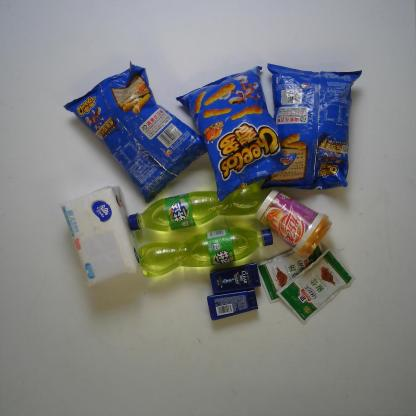Drink: (124, 177, 268, 233), (138, 225, 274, 283)
Instant Drink: (254, 186, 336, 262)
Personal Hygiene: (204, 260, 261, 296), (203, 286, 258, 322)
Puffed Food: (59, 60, 210, 207), (174, 63, 301, 205), (262, 62, 366, 192)
Seasoner: (275, 247, 356, 326), (256, 238, 330, 304)
Tissue: (61, 184, 144, 293)
